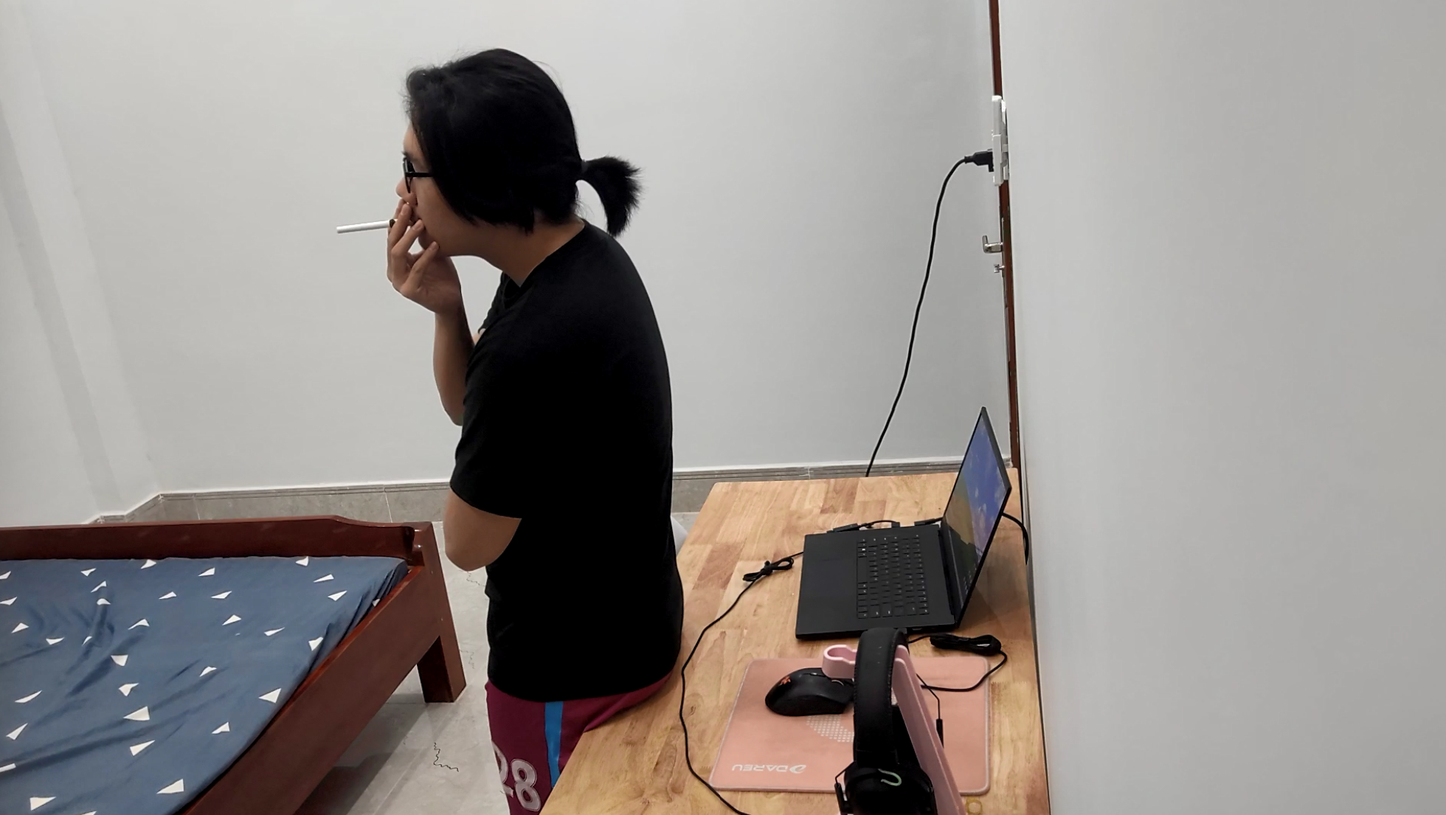cigarette: (336, 213, 398, 237)
person: (345, 10, 708, 815)
